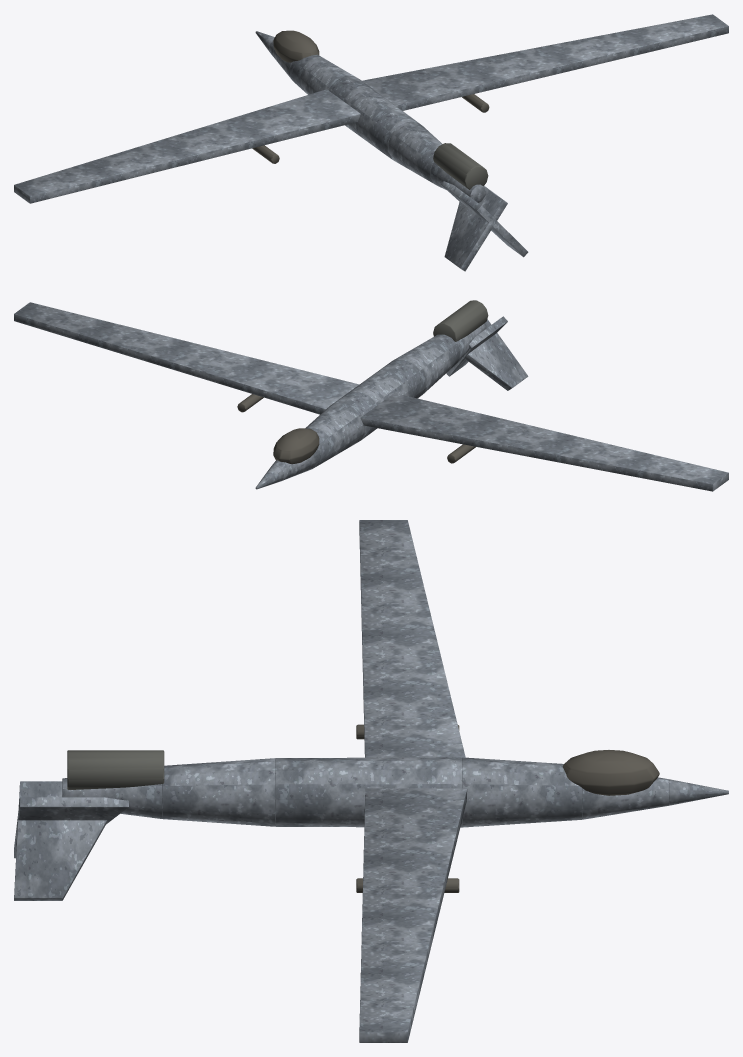
Rendered from uav_e6_us_armed_LOD0.glb.
3 renders of one model, top to bottom at view 1: azimuth 30°, elevation 25°; view 2: azimuth 150°, elevation 25°; view 3: azimuth 270°, elevation 25°, orthographic. The views are drawn at different scales.
Visible parts, largest first — view 1: uav_e6_us_armed_LOD0_body, uav_e6_us_armed_LOD0_deck, uav_e6_us_armed_LOD0_gun; view 2: uav_e6_us_armed_LOD0_body, uav_e6_us_armed_LOD0_deck, uav_e6_us_armed_LOD0_gun; view 3: uav_e6_us_armed_LOD0_body, uav_e6_us_armed_LOD0_deck, uav_e6_us_armed_LOD0_gun.
Part boxes in pixels (bbox=[...]): uav_e6_us_armed_LOD0_body: bbox=[14, 14, 728, 271]; uav_e6_us_armed_LOD0_deck: bbox=[252, 30, 489, 163]; uav_e6_us_armed_LOD0_gun: bbox=[433, 143, 488, 189]; uav_e6_us_armed_LOD0_body: bbox=[14, 302, 728, 491]; uav_e6_us_armed_LOD0_deck: bbox=[237, 394, 475, 464]; uav_e6_us_armed_LOD0_gun: bbox=[433, 300, 488, 341]; uav_e6_us_armed_LOD0_body: bbox=[14, 520, 728, 1042]; uav_e6_us_armed_LOD0_deck: bbox=[356, 724, 659, 892]; uav_e6_us_armed_LOD0_gun: bbox=[67, 750, 164, 789].
Size of the model in its own units: 20 by 2.32 by 11.8.
3 materials, 1 textured.
